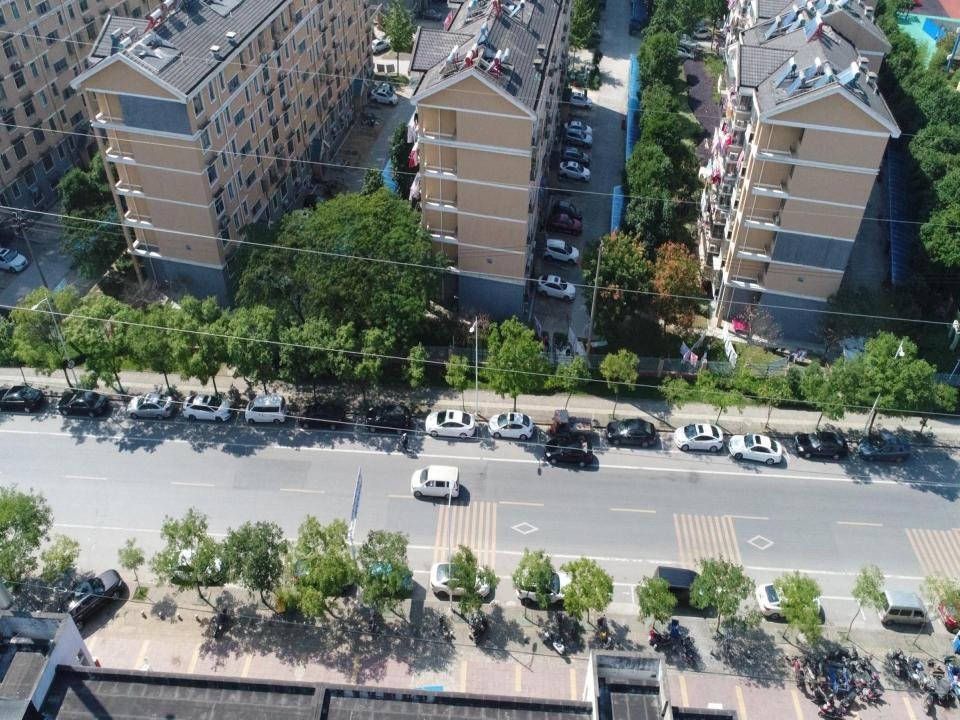car: (60, 569, 124, 630), (756, 583, 820, 619), (431, 562, 490, 601), (166, 547, 226, 585), (516, 569, 573, 607), (293, 558, 344, 593), (728, 432, 782, 464), (856, 433, 911, 463), (605, 418, 656, 449), (182, 393, 233, 423), (425, 409, 475, 439), (795, 432, 848, 460), (298, 401, 346, 431), (544, 437, 592, 467), (58, 390, 109, 418), (369, 559, 413, 591), (674, 424, 724, 452), (128, 393, 176, 420), (364, 406, 410, 434), (488, 412, 534, 440), (0, 386, 44, 413), (537, 274, 576, 300), (544, 238, 579, 264), (546, 212, 582, 235), (0, 247, 28, 274), (559, 161, 591, 182), (563, 127, 593, 148), (552, 200, 582, 220), (562, 146, 590, 166), (563, 120, 593, 138), (371, 88, 398, 106), (303, 193, 327, 212), (672, 44, 696, 60), (73, 240, 94, 258), (570, 92, 592, 108), (370, 39, 391, 54), (284, 221, 304, 235), (421, 8, 442, 21), (585, 21, 601, 38), (690, 27, 712, 39), (292, 209, 309, 222)
truck: (550, 410, 592, 440)
van: (652, 567, 712, 607), (875, 590, 926, 626), (410, 465, 460, 499), (245, 394, 287, 424)
